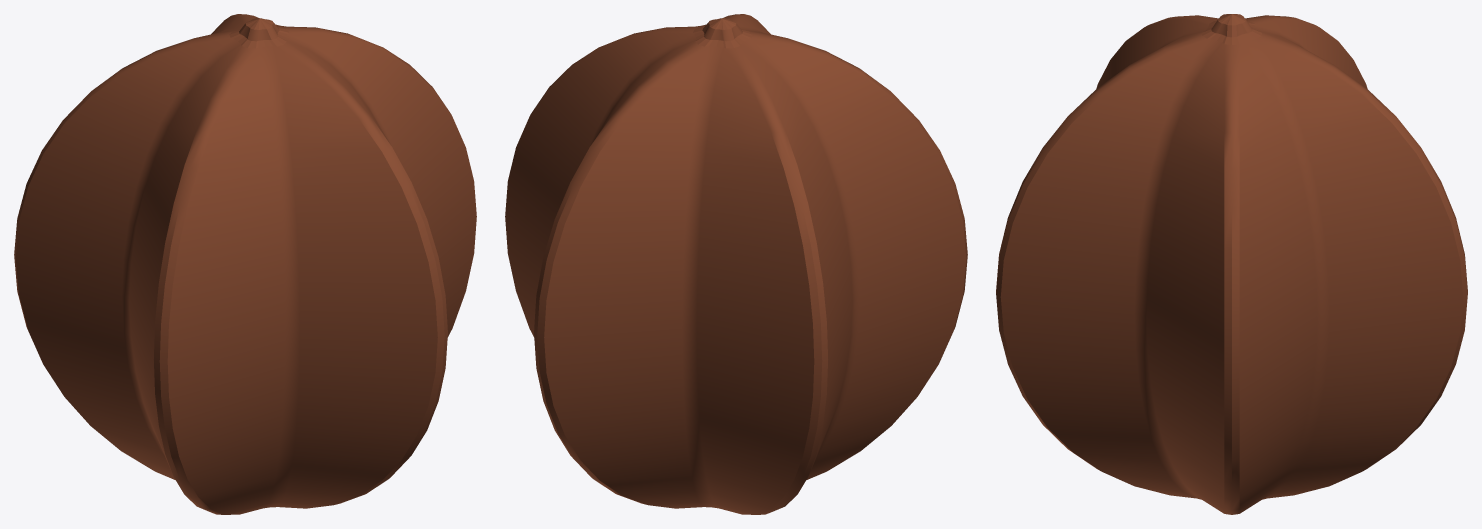
Rendered from StarFruit.fbx.
3 views of the same model, side by side, from view 1: azimuth 30°, elevation 25°; view 2: azimuth 150°, elevation 25°; view 3: azimuth 270°, elevation 25° (orthographic).
Parts seen in each view (by area): view 1: Star_Fruit; view 2: Star_Fruit; view 3: Star_Fruit.
Part boxes in pixels (x1,y1,x2,y2): Star_Fruit: [14, 14, 476, 514]; Star_Fruit: [505, 14, 967, 514]; Star_Fruit: [996, 14, 1467, 514].
Bounding box in the file's own units: 0.9245 × 1.09 × 0.9668.
